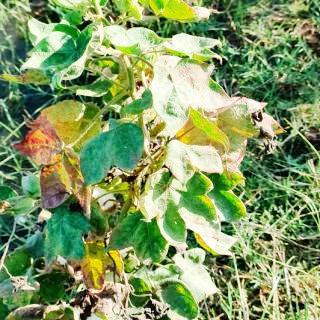blight: (7, 87, 131, 218), (143, 46, 247, 157)
curl: (135, 161, 276, 254)
